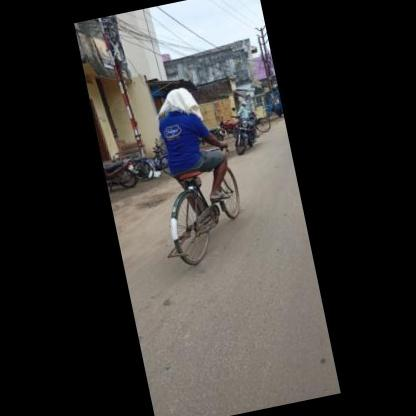Bicycle: (151, 137, 249, 271)
